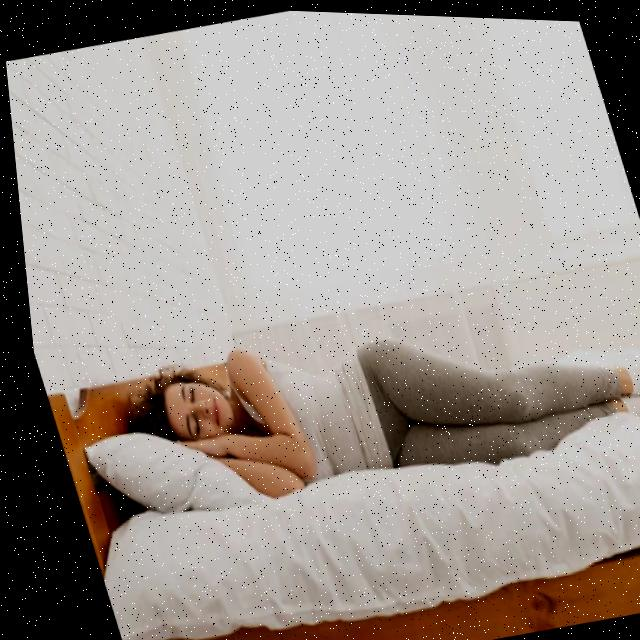sleeping-person: (60, 217, 640, 584)
